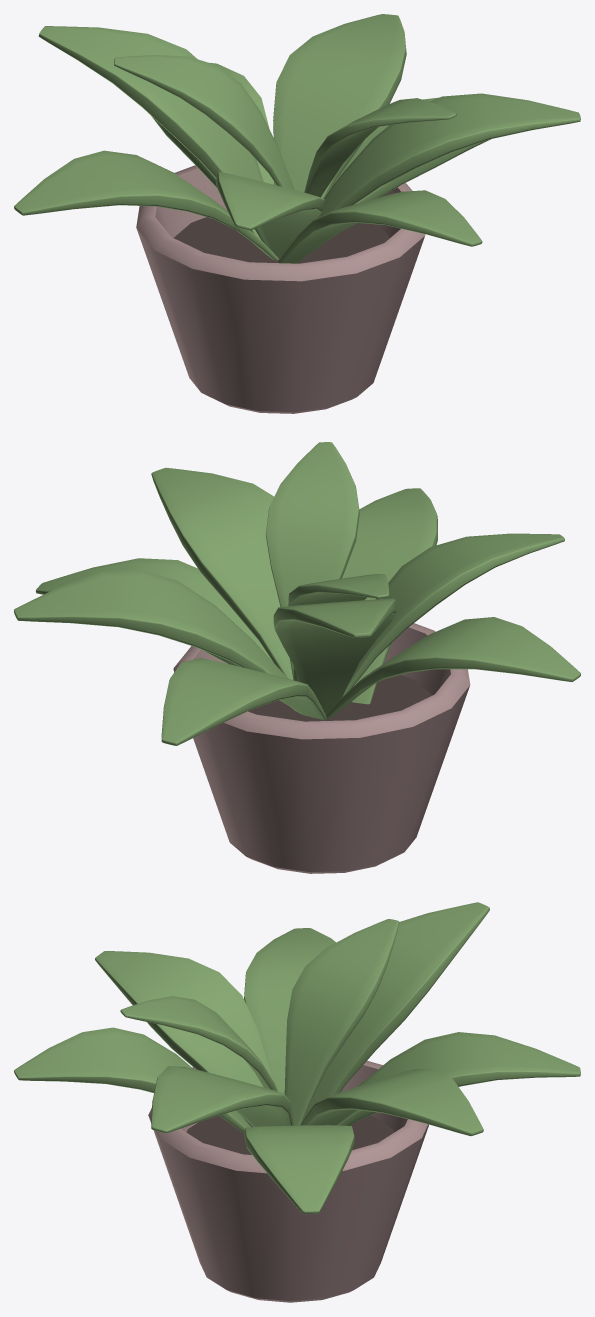
The model's file is SM_plant.fbx.
3 renders of one model, top to bottom at view 1: azimuth 30°, elevation 25°; view 2: azimuth 150°, elevation 25°; view 3: azimuth 270°, elevation 25°, orthographic. The views are drawn at different scales.
Parts seen in each view (by area): view 1: SM_plant; view 2: SM_plant; view 3: SM_plant.
Boxes of the visible parts, <box> form: SM_plant: <box>14,14,580,413</box>; SM_plant: <box>14,442,580,873</box>; SM_plant: <box>14,902,580,1302</box>.
Bounding box in the file's own units: 44.54 × 24.92 × 43.08.
